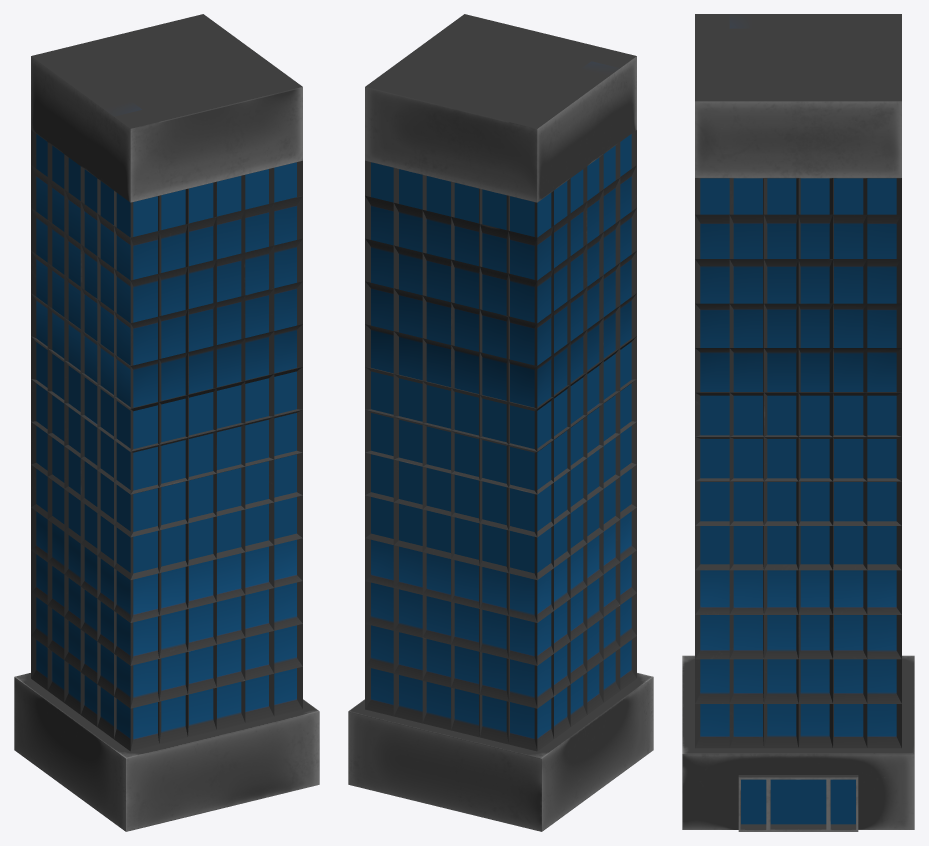
Rendered from Building.fbx.
3 views of the same model, side by side, from view 1: azimuth 30°, elevation 25°; view 2: azimuth 150°, elevation 25°; view 3: azimuth 270°, elevation 25° (orthographic). The views are drawn at different scales.
Visible parts, largest first — view 1: Cube.006; view 2: Cube.006; view 3: Cube.006.
Boxes of the visible parts, bbox=[...] form: Cube.006: bbox=[14, 14, 319, 831]; Cube.006: bbox=[348, 14, 653, 831]; Cube.006: bbox=[682, 14, 914, 831].
Bounding box in the file's own units: 733 × 2448 × 713.
1 material, 1 textured.
